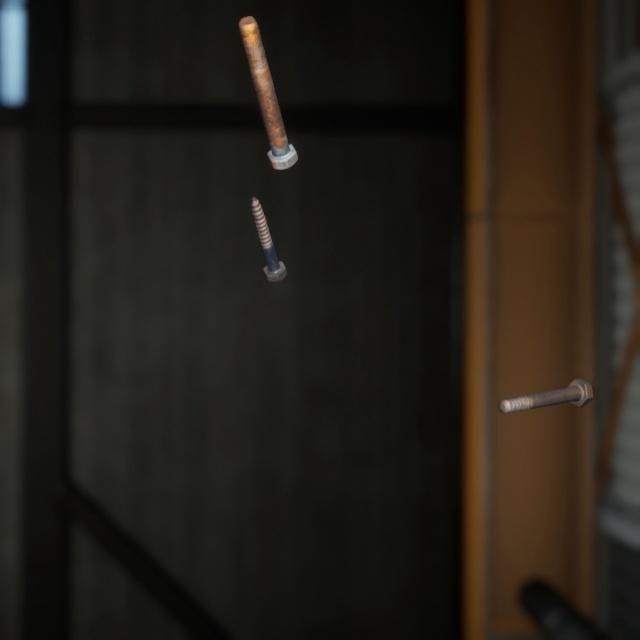bolt: (234, 0, 302, 162), (494, 354, 597, 398), (246, 175, 292, 270)
